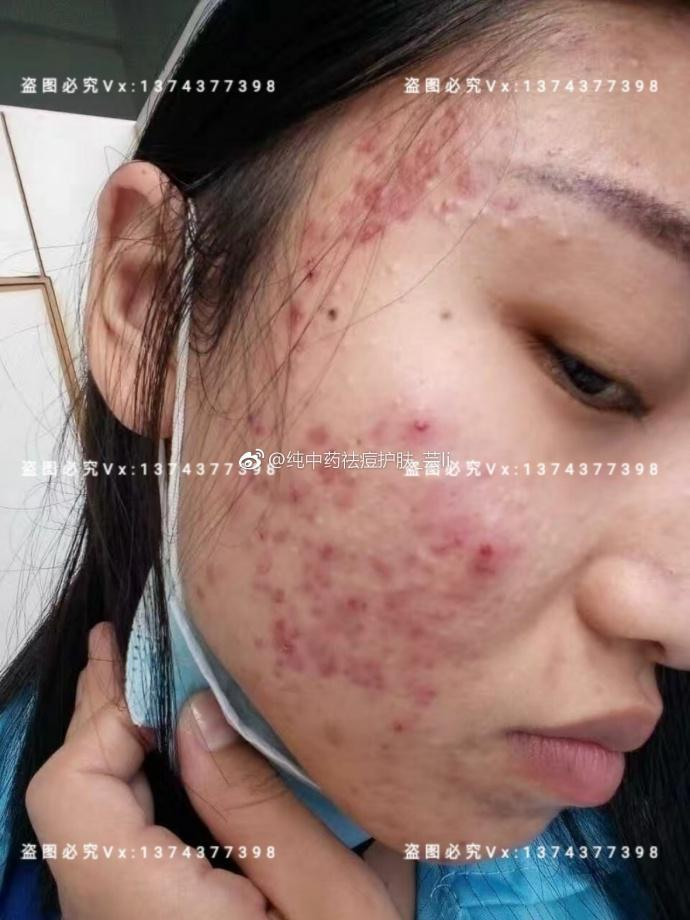fore: (455, 568, 516, 625), (367, 691, 416, 742), (257, 505, 304, 554), (335, 582, 382, 627), (404, 672, 459, 709), (233, 399, 278, 442), (420, 107, 467, 146), (304, 248, 337, 303), (386, 589, 427, 633), (396, 605, 437, 648), (249, 470, 290, 511), (198, 556, 237, 599), (278, 291, 310, 342), (308, 637, 349, 676), (390, 152, 431, 191), (308, 535, 349, 572), (353, 215, 390, 256), (294, 211, 329, 254), (359, 185, 398, 223), (257, 615, 304, 646), (265, 572, 302, 611), (282, 635, 314, 680), (318, 466, 359, 501), (398, 502, 436, 539), (318, 717, 357, 752), (449, 181, 486, 217), (345, 166, 380, 203), (308, 427, 347, 460), (394, 183, 429, 219), (545, 165, 586, 195), (357, 656, 390, 693), (400, 545, 438, 577), (361, 113, 392, 152), (458, 630, 488, 669), (333, 644, 367, 678), (420, 156, 455, 189), (321, 327, 359, 357), (431, 529, 465, 562), (304, 564, 337, 597), (331, 365, 366, 396), (403, 647, 440, 676), (241, 558, 274, 590), (339, 195, 363, 236), (365, 414, 391, 450), (465, 529, 494, 560), (379, 251, 408, 282), (488, 214, 518, 243), (524, 207, 553, 237), (489, 190, 530, 211), (545, 224, 579, 249), (332, 793, 360, 820), (414, 401, 439, 431), (381, 389, 410, 414), (299, 505, 326, 530), (367, 556, 404, 574), (306, 595, 339, 615), (344, 775, 374, 795), (288, 480, 306, 505)
